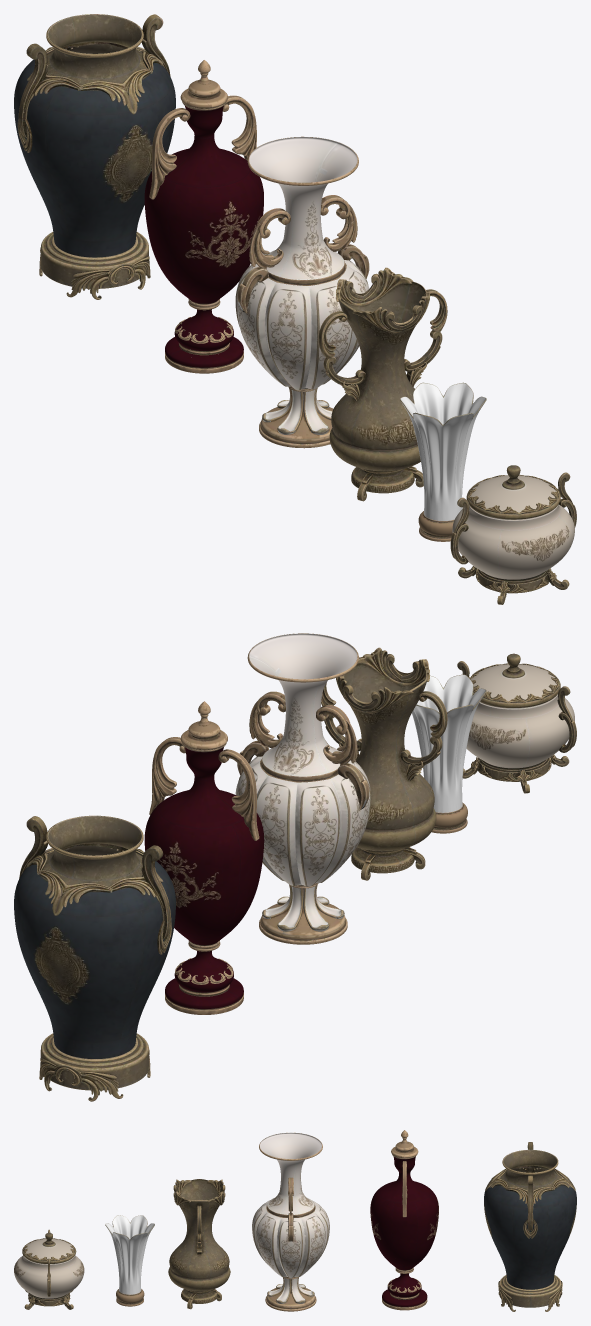
Rendered from 静物_瓶罐_vases_opt.glb.
3 views of the same model, one above another, from view 1: azimuth 30°, elevation 25°; view 2: azimuth 150°, elevation 25°; view 3: azimuth 270°, elevation 25° (orthographic). The views are drawn at different scales.
Visible parts, largest first — view 1: RVase5Shape_RVase5_0, RVase1Shape_RVase1_0, RVase2Shape_RVase2_0, RVase3Shape_RVase3_0, RVase6Shape_RVase6_0, RVase4Shape_RVase4b_0, RVase5Shape_RVase5b_0, RVase1Shape_RVase1b_0, RVase3Shape_RVase3b_0, RVase2Shape_RVase2b_0, RVase6Shape_RVase6b_0, RVase4Shape_RVase4_0; view 2: RVase5Shape_RVase5_0, RVase1Shape_RVase1_0, RVase2Shape_RVase2_0, RVase3Shape_RVase3_0, RVase6Shape_RVase6_0, RVase5Shape_RVase5b_0, RVase1Shape_RVase1b_0, RVase4Shape_RVase4b_0, RVase3Shape_RVase3b_0, RVase2Shape_RVase2b_0, RVase6Shape_RVase6b_0, RVase4Shape_RVase4_0; view 3: RVase5Shape_RVase5_0, RVase1Shape_RVase1_0, RVase2Shape_RVase2_0, RVase3Shape_RVase3_0, RVase6Shape_RVase6_0, RVase4Shape_RVase4b_0, RVase5Shape_RVase5b_0, RVase1Shape_RVase1b_0, RVase3Shape_RVase3b_0, RVase6Shape_RVase6b_0, RVase2Shape_RVase2b_0, RVase4Shape_RVase4_0.
Boxes of the visible parts, x1,y1,x2,y2 form: RVase5Shape_RVase5_0: (14,14,175,288); RVase1Shape_RVase1_0: (235,136,369,448); RVase2Shape_RVase2_0: (144,60,263,373); RVase3Shape_RVase3_0: (329,281,426,493); RVase6Shape_RVase6_0: (452,465,574,593); RVase4Shape_RVase4b_0: (400,382,486,520); RVase5Shape_RVase5b_0: (17,14,170,299); RVase1Shape_RVase1b_0: (237,195,369,434); RVase3Shape_RVase3b_0: (318,267,447,501); RVase2Shape_RVase2b_0: (149,95,256,343); RVase6Shape_RVase6b_0: (450,472,576,604); RVase4Shape_RVase4_0: (418,511,454,541); RVase5Shape_RVase5_0: (14,815,175,1090); RVase1Shape_RVase1_0: (235,633,371,944); RVase2Shape_RVase2_0: (144,701,264,1014); RVase3Shape_RVase3_0: (341,663,436,873); RVase6Shape_RVase6_0: (466,653,574,781); RVase5Shape_RVase5b_0: (19,816,171,1101); RVase1Shape_RVase1b_0: (237,691,369,931); RVase4Shape_RVase4b_0: (412,674,486,812); RVase3Shape_RVase3b_0: (321,647,447,880); RVase2Shape_RVase2b_0: (149,737,259,984); RVase6Shape_RVase6b_0: (457,661,576,793); RVase4Shape_RVase4_0: (431,802,467,833); RVase5Shape_RVase5_0: (484,1149,576,1307); RVase1Shape_RVase1_0: (252,1132,329,1311); RVase2Shape_RVase2_0: (370,1130,438,1310); RVase3Shape_RVase3_0: (168,1179,230,1303); RVase6Shape_RVase6_0: (14,1233,84,1306); RVase4Shape_RVase4b_0: (105,1215,154,1294); RVase5Shape_RVase5b_0: (485,1142,575,1311); RVase1Shape_RVase1b_0: (267,1177,314,1303); RVase3Shape_RVase3b_0: (173,1179,225,1309); RVase6Shape_RVase6b_0: (23,1229,75,1309); RVase2Shape_RVase2b_0: (387,1161,421,1292); RVase4Shape_RVase4_0: (116,1289,144,1306).
Size of the model in its own units: 0.1572 by 0.3 by 0.8957.
Materials: 12 (12 with a texture image).
